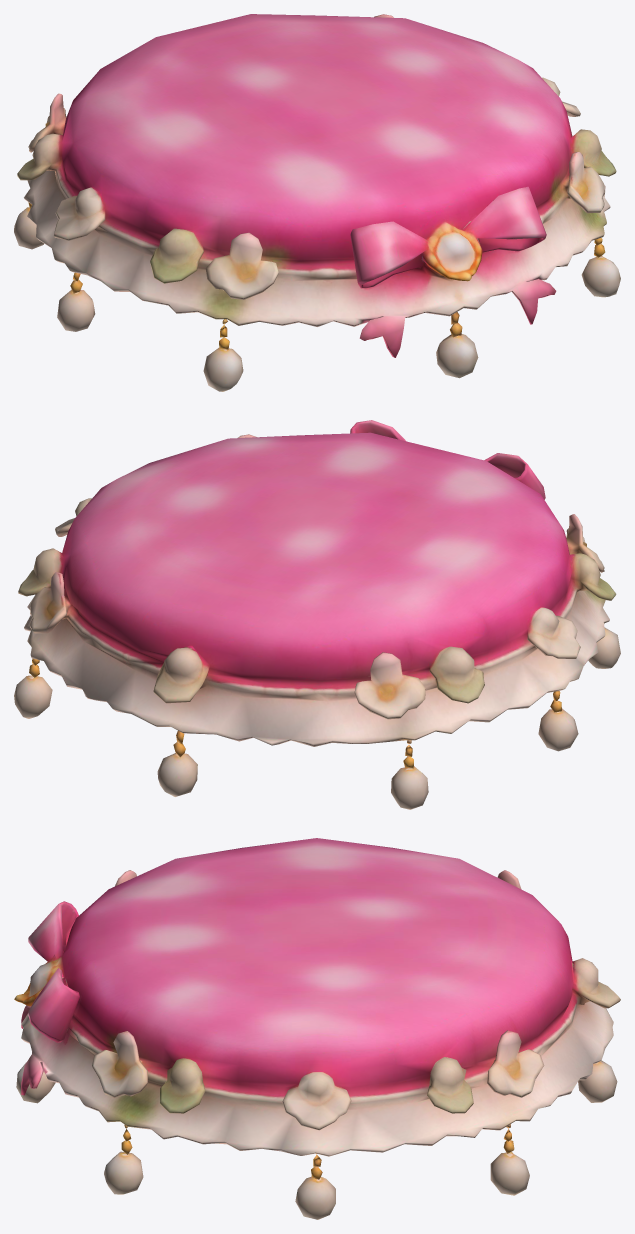
3 renders of one model, top to bottom at view 1: azimuth 30°, elevation 25°; view 2: azimuth 150°, elevation 25°; view 3: azimuth 270°, elevation 25°, orthographic.
Visible parts, largest first — view 1: tripo_node_88bb165c; view 2: tripo_node_88bb165c; view 3: tripo_node_88bb165c.
Part boxes in pixels (bbox=[...]): tripo_node_88bb165c: bbox=[14, 14, 620, 391]; tripo_node_88bb165c: bbox=[14, 420, 620, 809]; tripo_node_88bb165c: bbox=[14, 838, 620, 1219].
Bounding box in the file's own units: 0.9922 × 0.3327 × 0.9922.
Materials: 1 (1 with a texture image).
